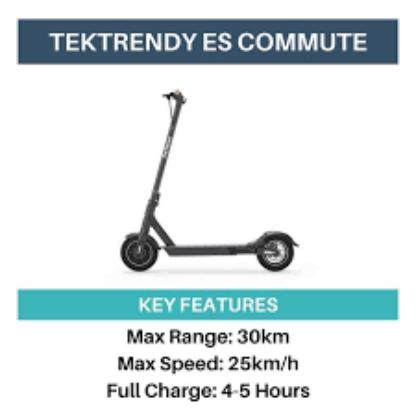bike: (119, 88, 300, 273)
